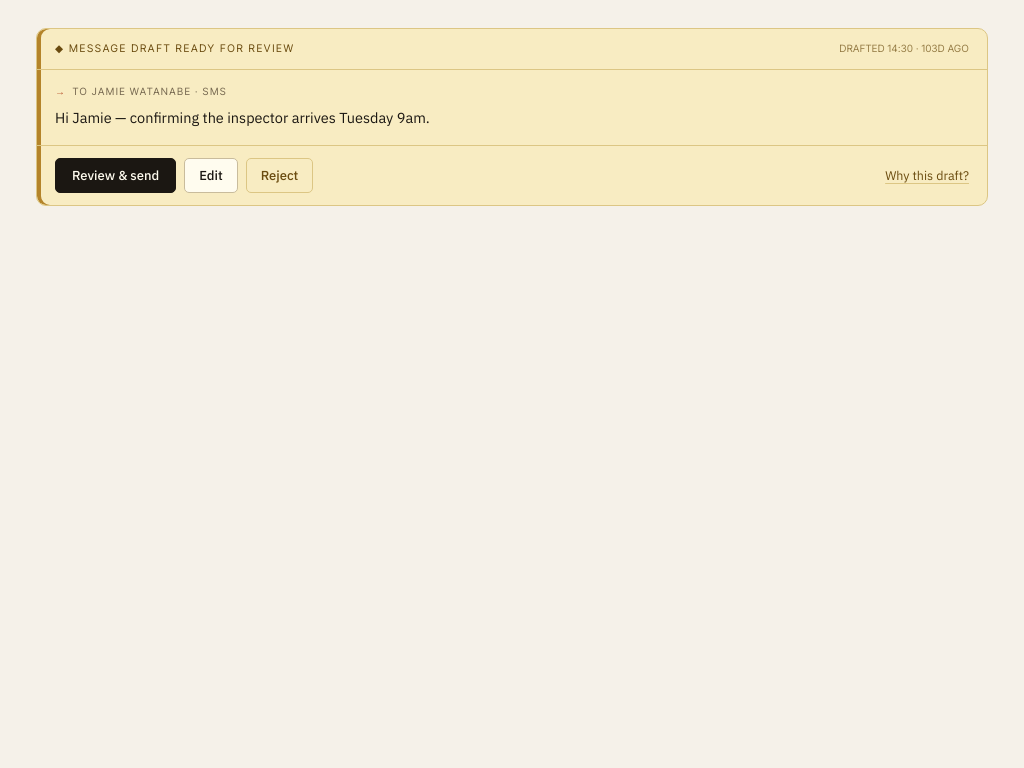
DraftHeroCard › approve action (send-confirm gate) › should omit the property and context rows when those fields are absent
Click the button with test id "pending-draft-approve" at (116, 175), box [55,158,176,193]
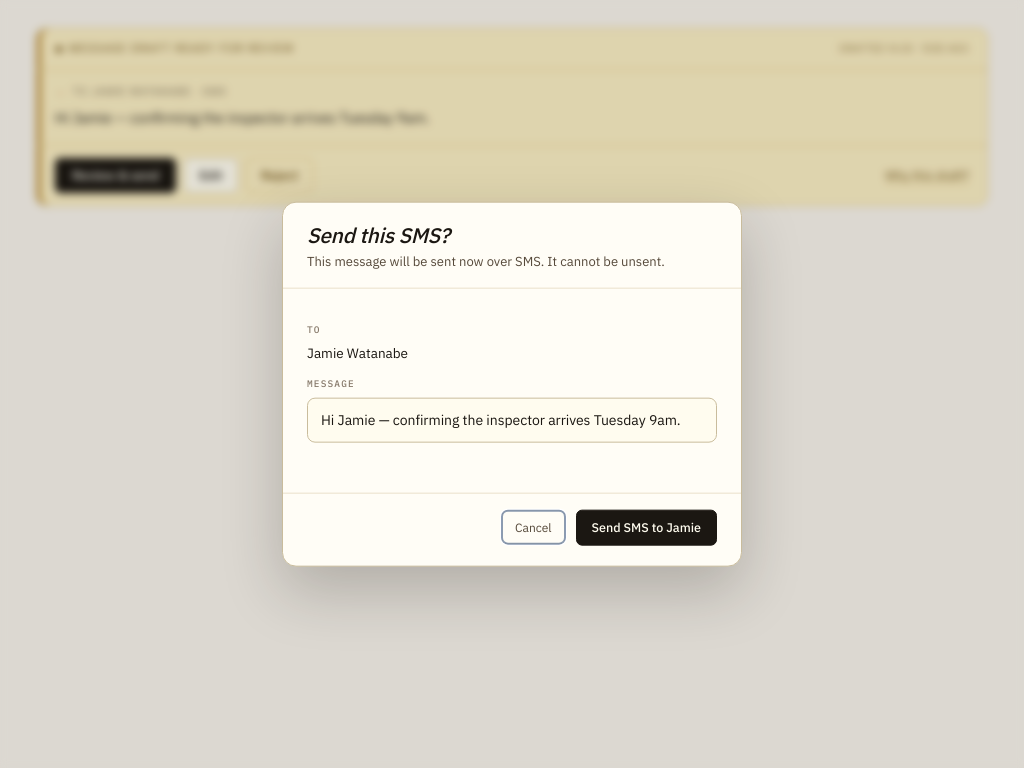
Check: the dialog with test id "send-confirm-dialog" is shown, box [282,202,742,566]
Check: the text with test id "send-confirm-to" reads "Jamie Watanabe", box [307,344,408,362]
